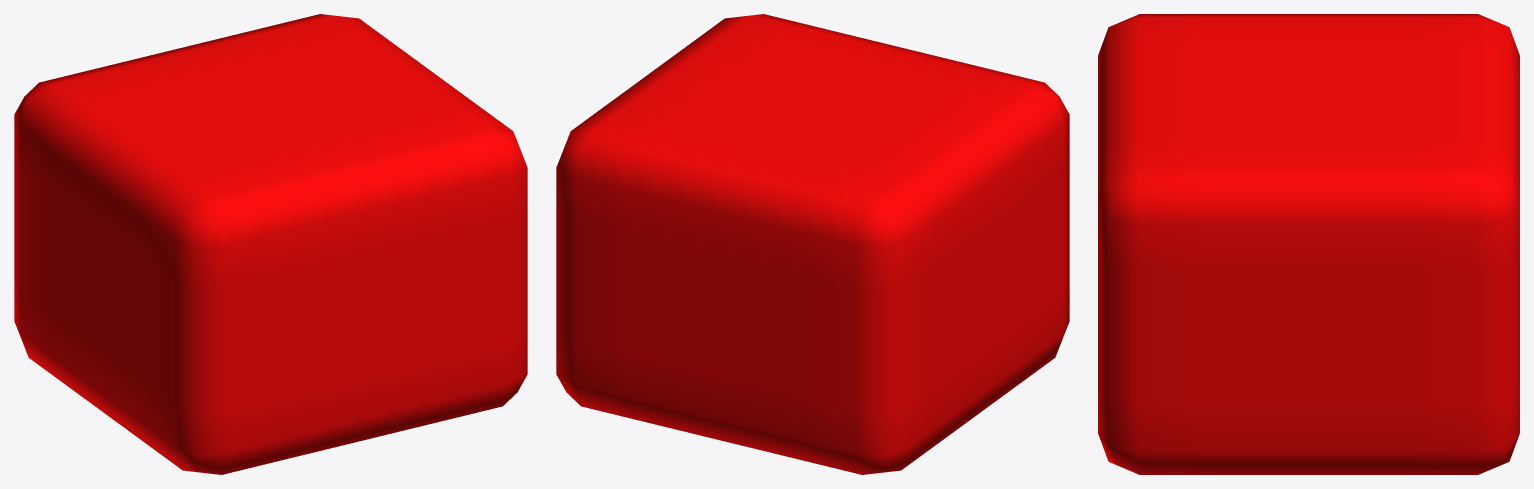
The model's file is cube-rose-unity1.fbx.
3 views of the same model, side by side, from view 1: azimuth 30°, elevation 25°; view 2: azimuth 150°, elevation 25°; view 3: azimuth 270°, elevation 25° (orthographic). The views are drawn at different scales.
Parts seen in each view (by area): view 1: cube_rose2; view 2: cube_rose2; view 3: cube_rose2.
Part boxes in pixels (<box>): cube_rose2: <box>14,14,527,474</box>; cube_rose2: <box>556,14,1069,474</box>; cube_rose2: <box>1098,14,1519,474</box>.
Bounding box in the file's own units: 23.01 × 17.49 × 22.08.
